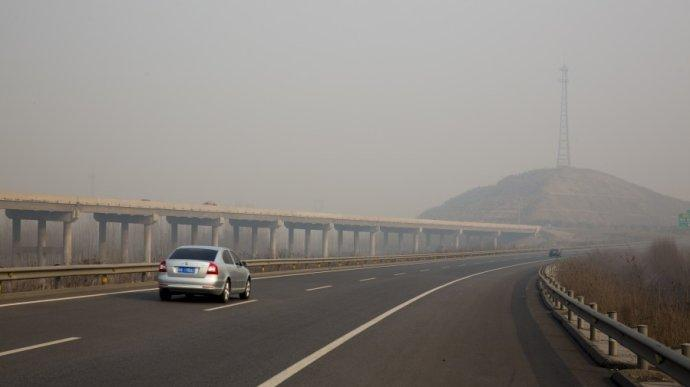car: (156, 244, 252, 302), (548, 246, 560, 259)
